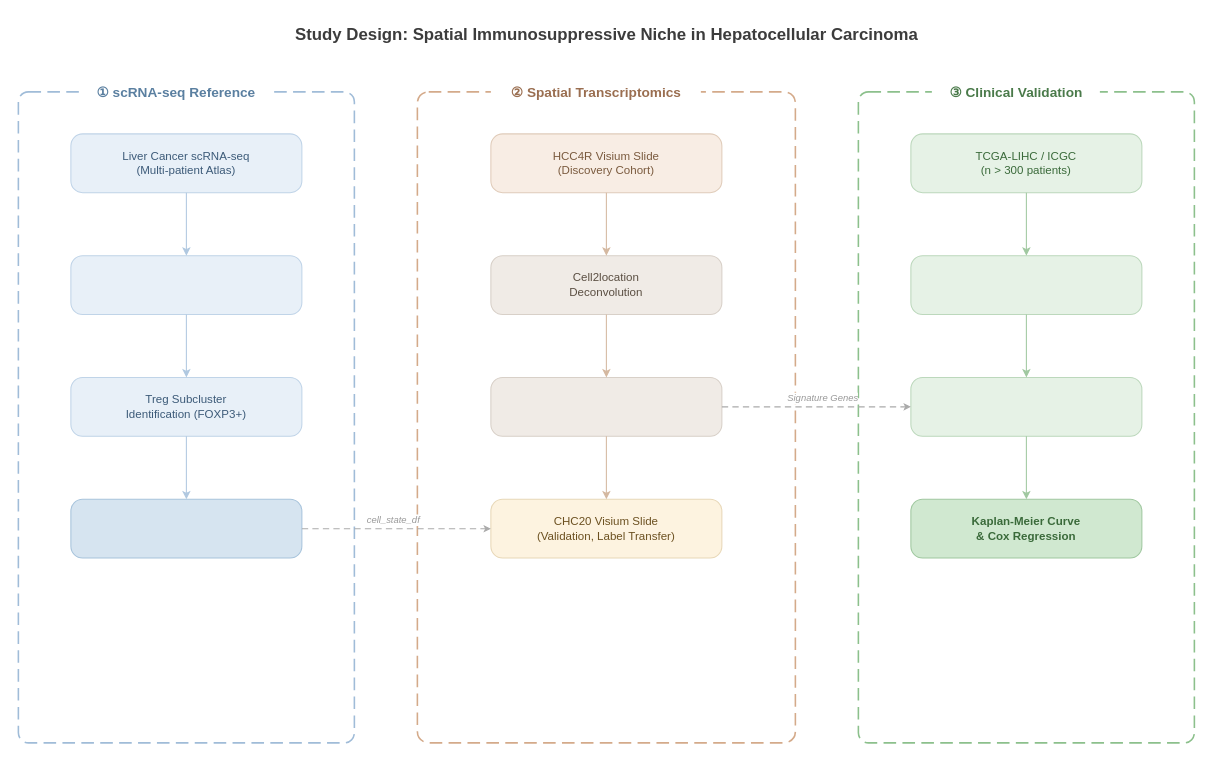
Image size: 1214x761. Some labels were removed from this diagram. Each missing label, with the box of its shape:
Cell Clustering & Type Annotation: (70, 255, 302, 314)
Cell-type Reference Signature Matrix: (70, 498, 302, 558)
Spatial Niche Discovery (kNN + Leiden): (490, 376, 722, 436)
ssGSEA Scoring (Niche Signature Genes): (910, 255, 1142, 314)
Survival Stratification (High vs Low): (910, 376, 1142, 436)
